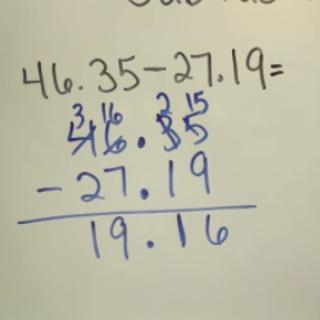.: (73, 80, 87, 93), (215, 71, 224, 84)
1: (171, 211, 189, 251), (227, 47, 242, 89), (88, 219, 103, 259)
2: (72, 168, 107, 203), (171, 49, 196, 83)
3: (87, 56, 117, 94), (71, 100, 86, 131)
4: (19, 59, 50, 100)
5: (117, 54, 144, 94)
6: (49, 60, 75, 98), (203, 212, 230, 247)
7: (189, 50, 216, 88)
9: (243, 44, 271, 93), (187, 150, 216, 194)
